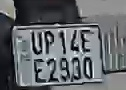0: (81, 56, 96, 80)
1: (55, 28, 69, 56)
2: (45, 58, 59, 84)
3: (71, 58, 84, 82)
4: (68, 28, 81, 56)
9: (58, 57, 71, 84)
E: (78, 29, 95, 55), (30, 58, 47, 84)
P: (42, 28, 56, 55)
U: (28, 29, 44, 56)
